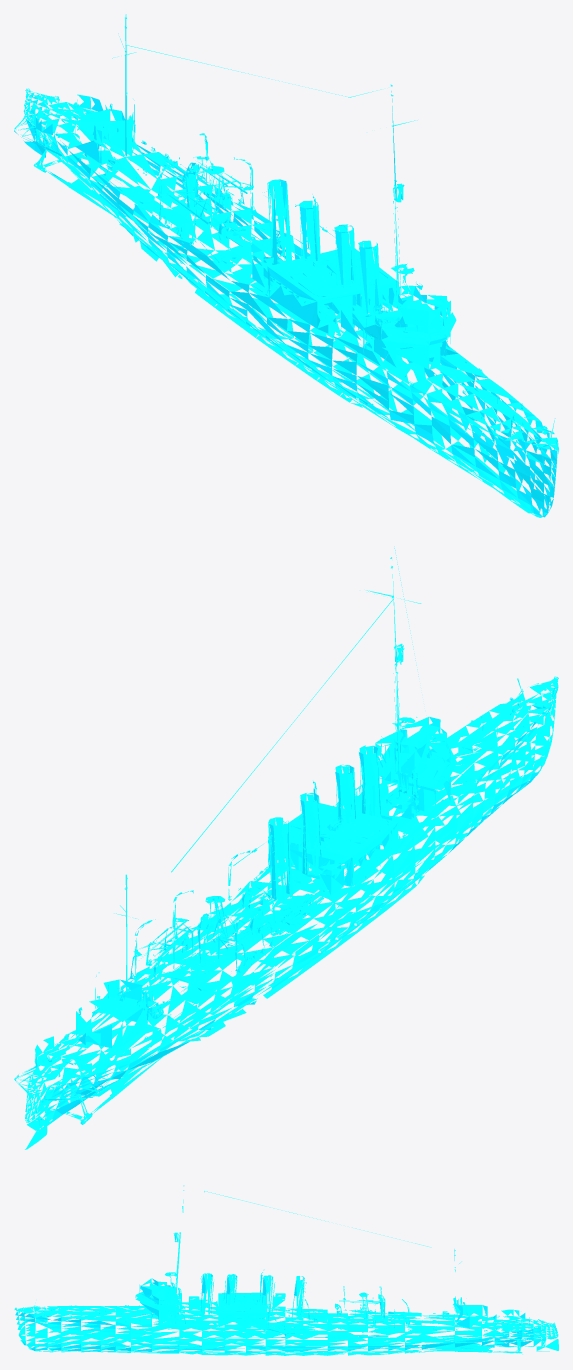
File: Clemson.glb
The picture shows the model from 3 angles, top to bottom: view 1: azimuth 30°, elevation 25°; view 2: azimuth 150°, elevation 25°; view 3: azimuth 270°, elevation 25°; orthographic projection. The views are drawn at different scales.
Bounding box in the file's own units: 0.6402 × 2.24 × 6.39.
